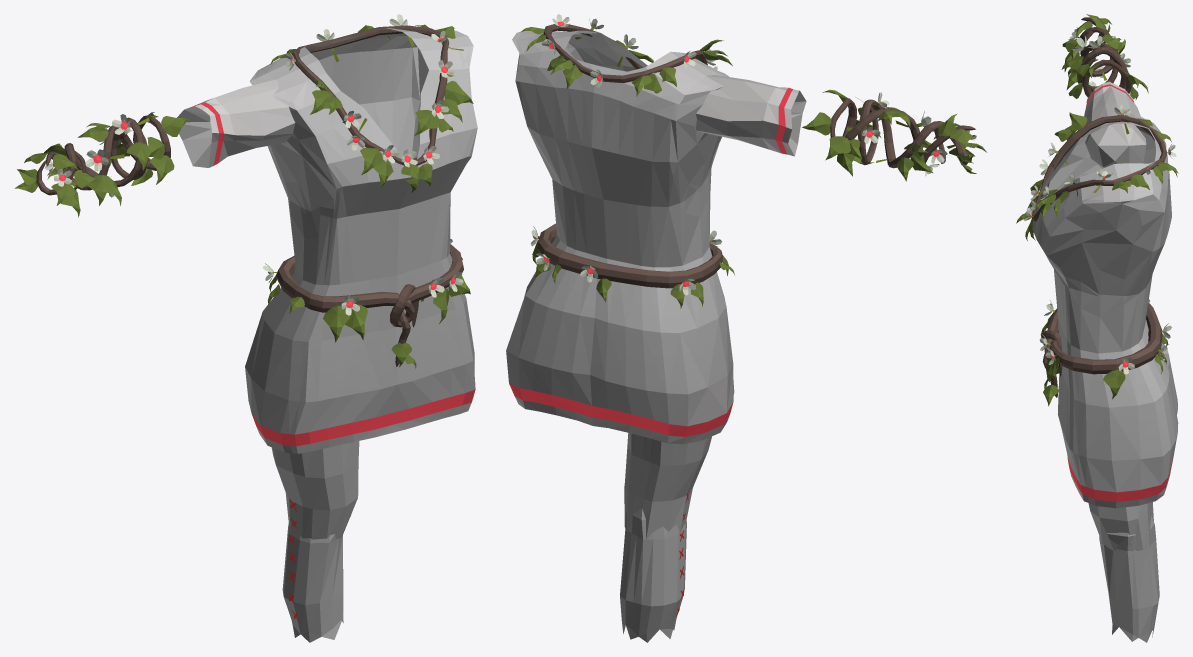
The model's file is flowerShirtFemale.glb.
3 views of the same model, side by side, from view 1: azimuth 30°, elevation 25°; view 2: azimuth 150°, elevation 25°; view 3: azimuth 270°, elevation 25° (orthographic). The views are drawn at different scales.
Visible parts, largest first — view 1: flowerShirt, flowerWristGuard, flowerShirtUpperArm, whitePantsUpperLeg, whitePantsLowerLeg; view 2: flowerShirt, flowerWristGuard, whitePantsLowerLeg, whitePantsUpperLeg, flowerShirtUpperArm; view 3: flowerShirt, whitePantsLowerLeg, flowerWristGuard, flowerShirtUpperArm, whitePantsUpperLeg.
Part boxes in pixels (left/top/right/bottom): flowerShirt: left=245, top=14, right=477, bottom=453; flowerWristGuard: left=14, top=112, right=190, bottom=217; flowerShirtUpperArm: left=177, top=79, right=295, bottom=167; whitePantsUpperLeg: left=271, top=441, right=359, bottom=539; whitePantsLowerLeg: left=282, top=515, right=350, bottom=642; flowerShirt: left=506, top=14, right=734, bottom=444; flowerWristGuard: left=802, top=89, right=987, bottom=181; whitePantsLowerLeg: left=620, top=508, right=686, bottom=642; whitePantsUpperLeg: left=624, top=433, right=711, bottom=538; flowerShirtUpperArm: left=696, top=75, right=806, bottom=156; flowerShirt: left=1016, top=104, right=1178, bottom=508; whitePantsLowerLeg: left=1099, top=516, right=1159, bottom=642; flowerWristGuard: left=1061, top=14, right=1148, bottom=99; flowerShirtUpperArm: left=1084, top=81, right=1146, bottom=168; whitePantsUpperLeg: left=1088, top=502, right=1153, bottom=550.
Bounding box in the file's own units: 1.05 × 1.3 × 0.3711.
